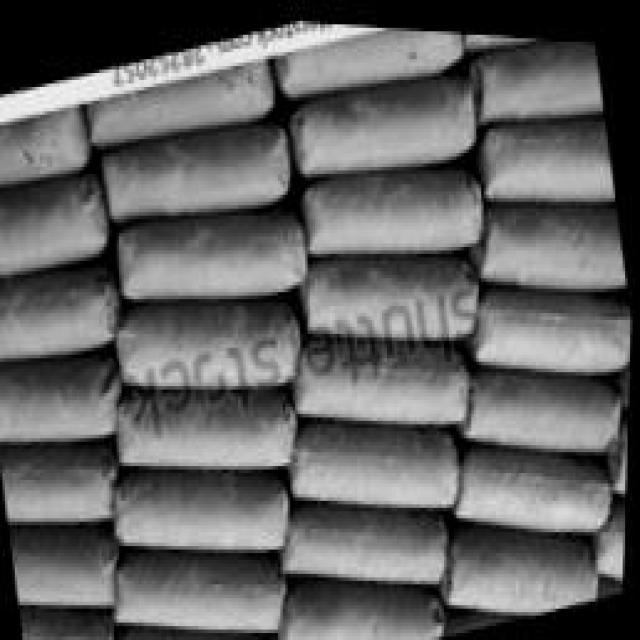gunny_bag: (94, 110, 291, 221), (289, 61, 475, 170), (120, 192, 303, 299), (297, 149, 484, 253), (118, 295, 304, 386), (305, 242, 481, 334), (86, 57, 269, 144), (298, 329, 471, 418), (117, 461, 290, 550), (119, 384, 302, 463), (285, 495, 452, 580), (293, 413, 461, 497), (457, 436, 614, 525), (471, 278, 633, 362), (479, 196, 630, 281), (272, 22, 458, 91), (464, 362, 622, 443), (115, 552, 290, 625), (0, 337, 123, 438), (0, 165, 112, 271), (482, 103, 615, 189), (0, 261, 114, 360), (467, 32, 604, 114), (283, 576, 445, 640), (453, 530, 595, 600), (12, 524, 122, 604), (3, 453, 117, 520), (0, 104, 83, 177), (24, 608, 119, 640), (596, 491, 629, 565), (123, 626, 273, 640)
